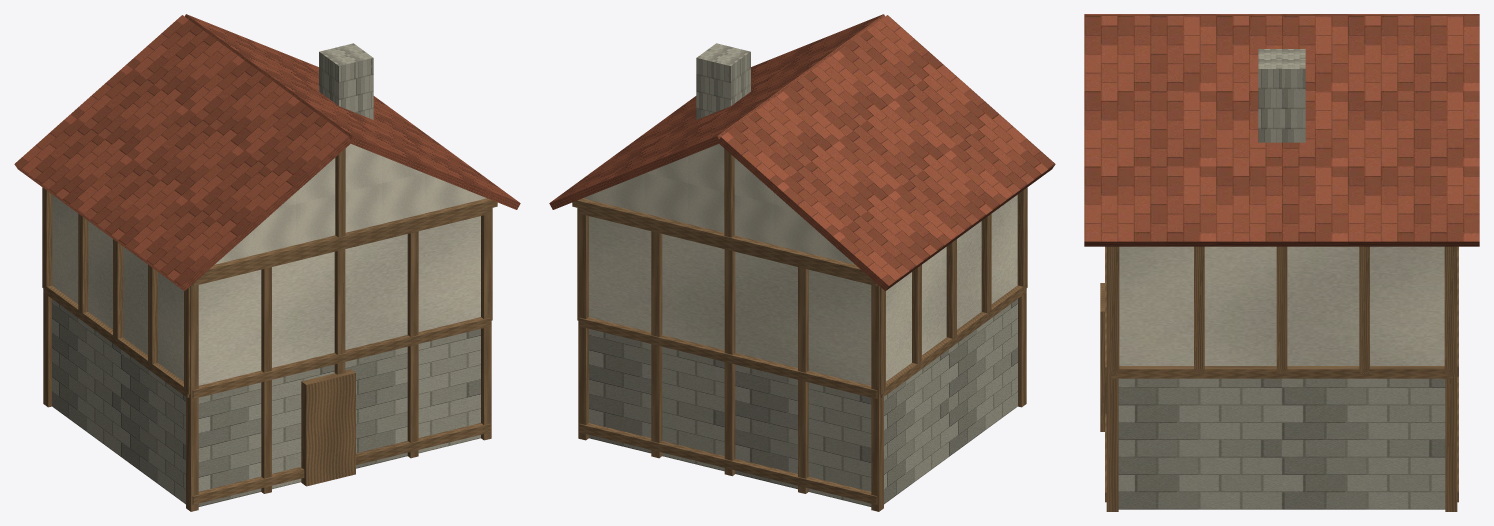
The picture shows the model from 3 angles, left to right: view 1: azimuth 30°, elevation 25°; view 2: azimuth 150°, elevation 25°; view 3: azimuth 270°, elevation 25°; orthographic projection. The views are drawn at different scales.
Parts seen in each view (by area): view 1: house-roof, house-plaster, house-stone, house-wood; view 2: house-roof, house-plaster, house-stone, house-wood; view 3: house-roof, house-stone, house-plaster, house-wood.
Part boxes in pixels (box(x1,y1,x2,y2)): house-roof: box(14, 14, 520, 291); house-plaster: box(52, 144, 486, 385); house-stone: box(52, 43, 480, 506); house-wood: box(42, 148, 497, 511); house-roof: box(549, 14, 1055, 291); house-plaster: box(583, 144, 1017, 385); house-stone: box(589, 43, 1017, 506); house-wood: box(572, 148, 1027, 511); house-roof: box(1084, 14, 1479, 246); house-stone: box(1118, 49, 1445, 509); house-plaster: box(1119, 246, 1444, 365); house-wood: box(1100, 246, 1458, 511).
Size of the model in its own units: 7.88 by 7.7 by 6.7.
4 materials, 4 textured.
